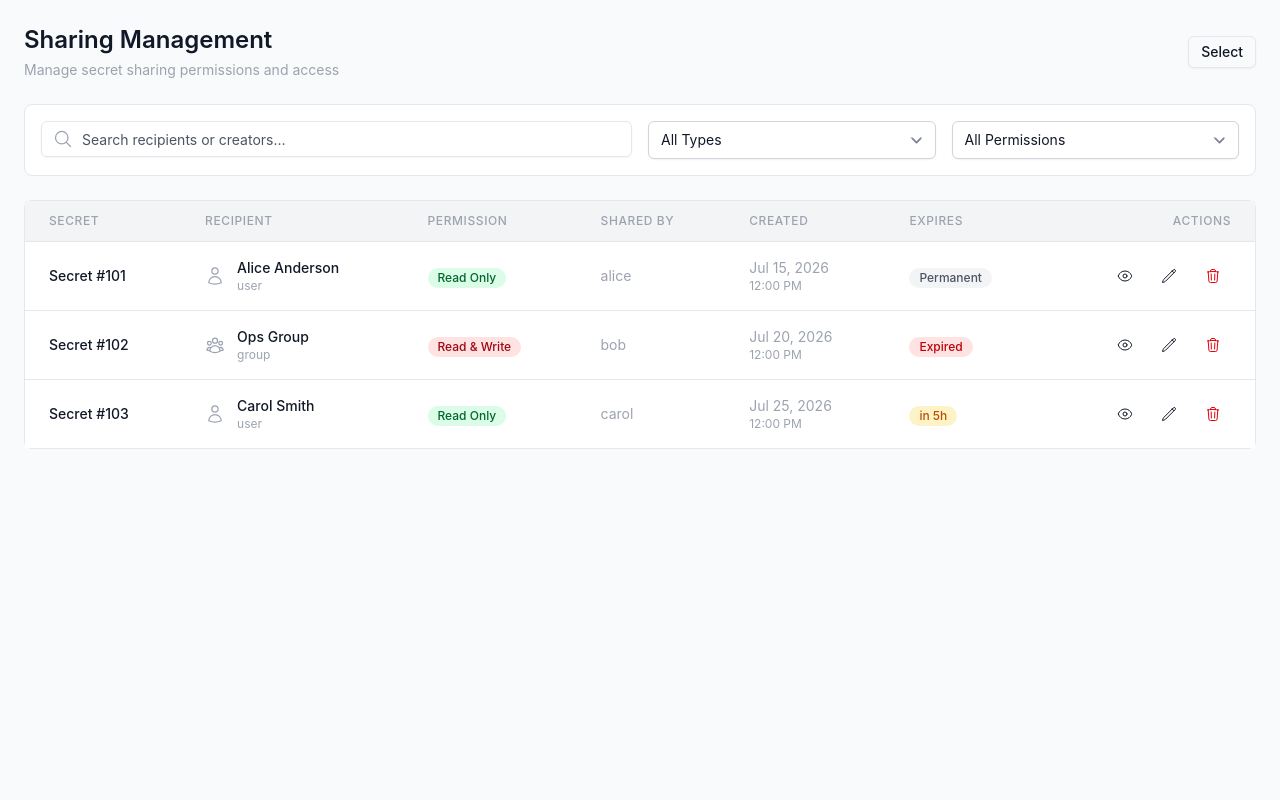
Test case: SharingManagementPage — per-row actions › Revoke access opens the confirm dialog; confirming deletes the share and closes on success
Click the button titled "Revoke access" in the row of "101" at (1213, 276), box [1195,260,1231,292]
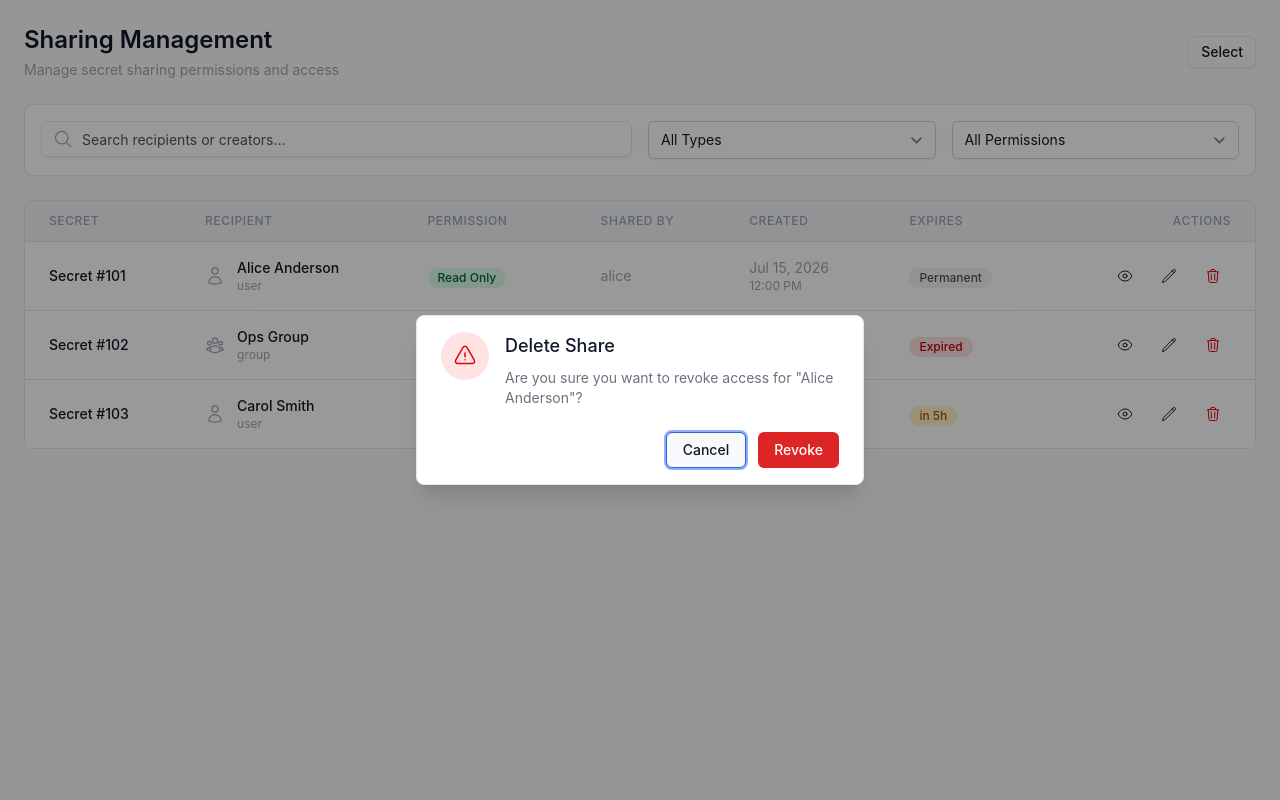
Now the heading "Delete Share" is shown, box [505,335,615,356]
Now the text "Are you sure you want to revoke access for \"Alice Anderson\"?" is shown, box [505,368,839,408]
Click the button "Revoke" at (799, 450), box [758,432,839,468]
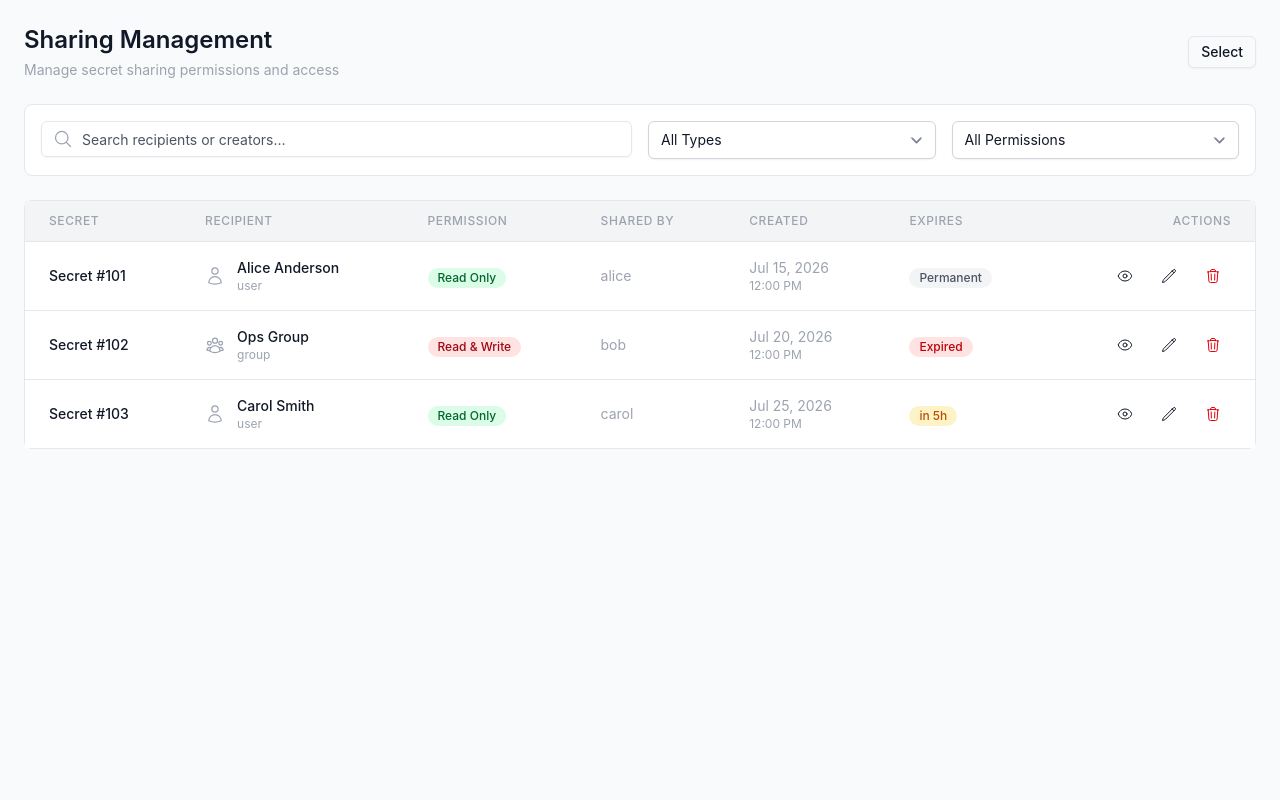
Now the dialog is gone
